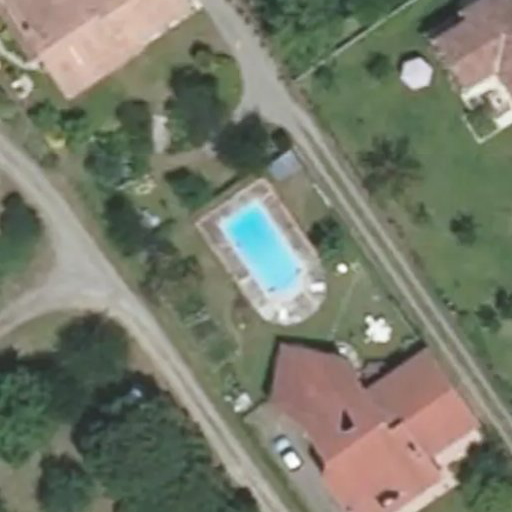pool: (216, 219, 301, 272)
